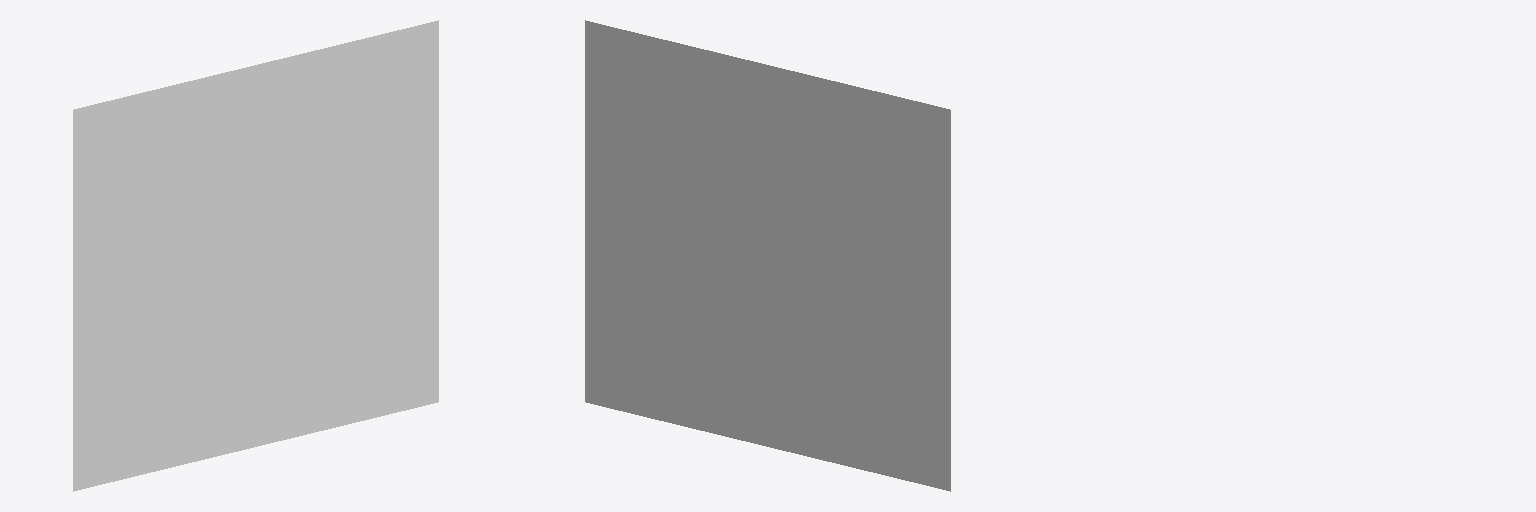
robot.urdf — cube.urdf:
<?xml version="0.0" ?>
<robot name="cube.urdf">
  <link name="baseLink">
    <contact>
      <lateral_friction value="1.0"/>
     
    </contact>
    <inertial>
      <origin rpy="0 0 0" xyz="0 0 0"/>
       <mass value=".0"/>
       <inertia ixx="0" ixy="0" ixz="0" iyy="0" iyz="0" izz="0"/>
    </inertial>
    <visual>
      <origin rpy="0 0 0" xyz="0 0 -0.15"/>
      <geometry>
        <mesh filename="sol2obj.obj" scale="10 10 10"/>
      </geometry>
       <material name="white">
        <color rgba="1 1 1 1"/>
      </material>
    </visual>
    <collision>
      <origin rpy="0 0 0" xyz="0 0 0"/>
      <geometry>
	 	<mesh filename="sol2obj.obj" scale="10 10 10"/>
      </geometry>
    </collision>
  </link>
</robot>

--- Facts derived from the render (not from the file) ---
3 views of the same robot in one strip: view 1: azimuth 30°, elevation 25°; view 2: azimuth 150°, elevation 25°; view 3: azimuth 270°, elevation 25° (orthographic).
Model cube.urdf with 1 links and 0 joints (none), rooted at baseLink, posed all joints at 0.
Links seen in each view (by area): view 1: baseLink; view 2: baseLink; view 3: none.
Boxes of the visible links, <box> form: baseLink: <box>73,20,438,491</box>; baseLink: <box>585,20,950,491</box>.
Bounding box of the posed robot: 20 × 0 × 20 m (x, y, z).
1 mesh visuals loaded from 1 distinct referenced files (1 OBJ).
